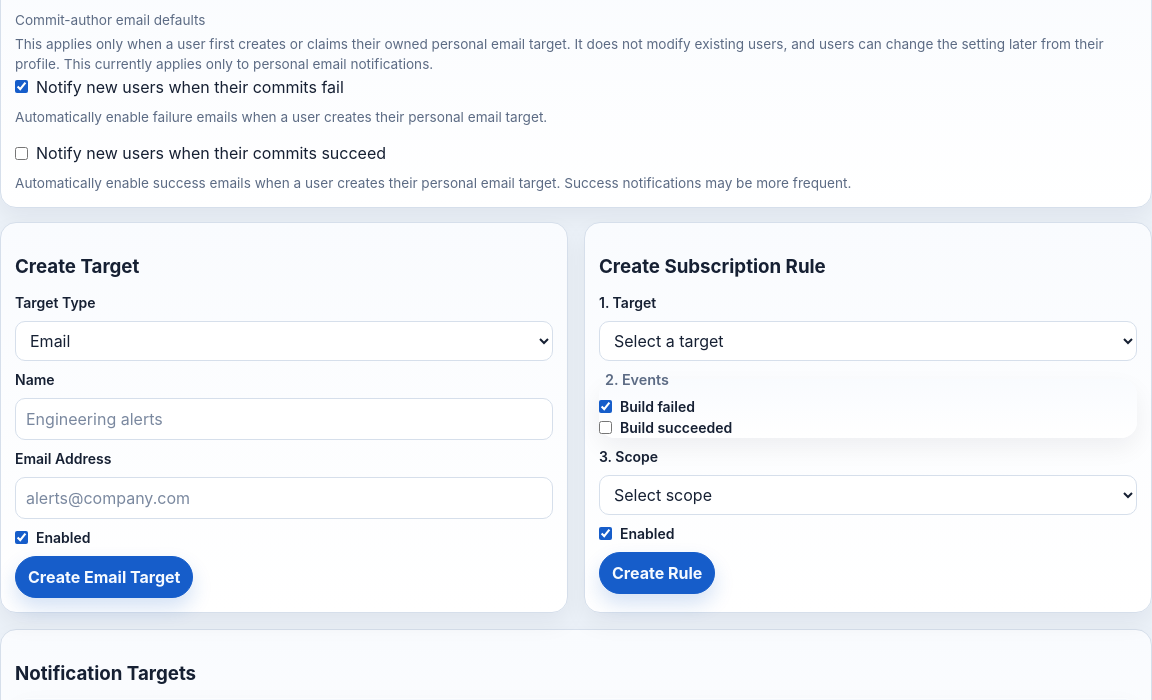
Test: NotificationsPage › shows validation error when project is missing
(page scrolled)
Select "Email · Engineering alerts" in the dropdown labelled "1. Target" at [868, 340], box [599,320,1137,360]
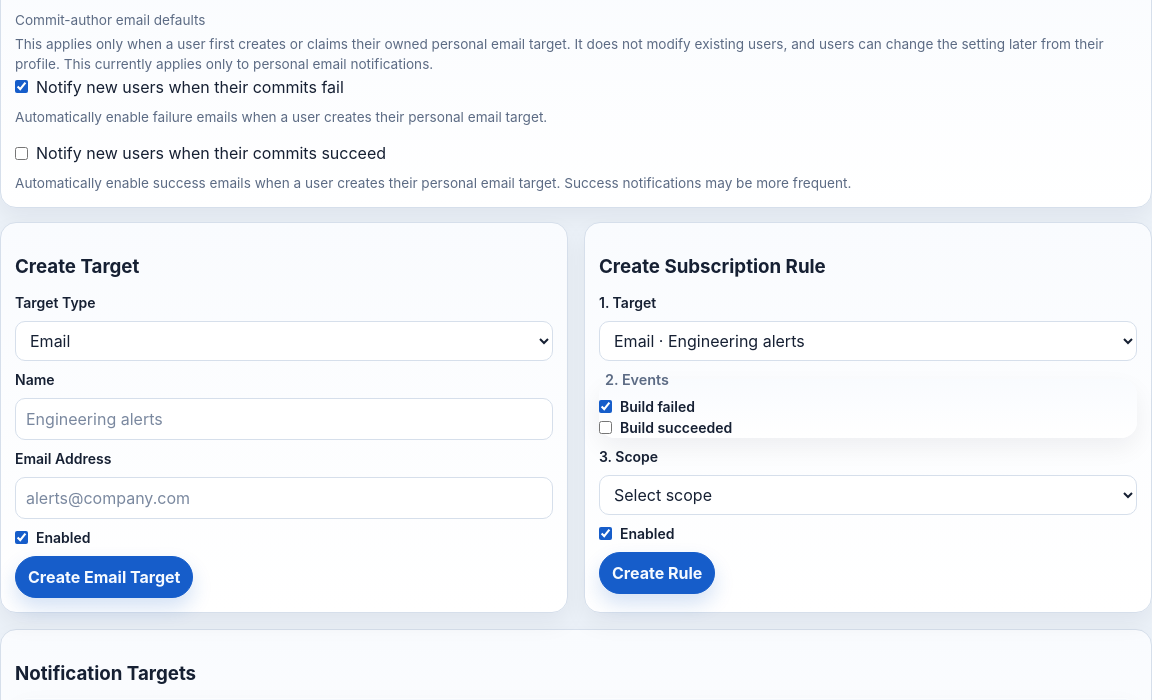
Select "All jobs in a project" in the dropdown labelled "3. Scope" at [868, 495], box [599,475,1137,515]
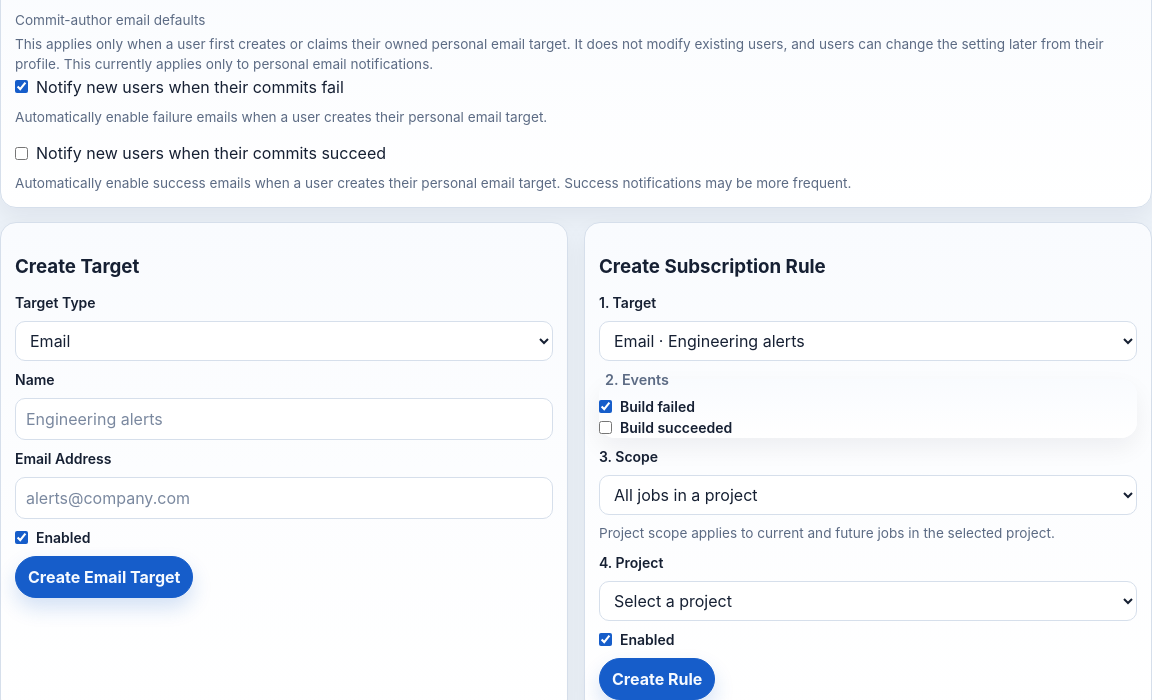
Click the button "Create Rule" at [657, 678], box [599,658,715,699]
(page scrolled)
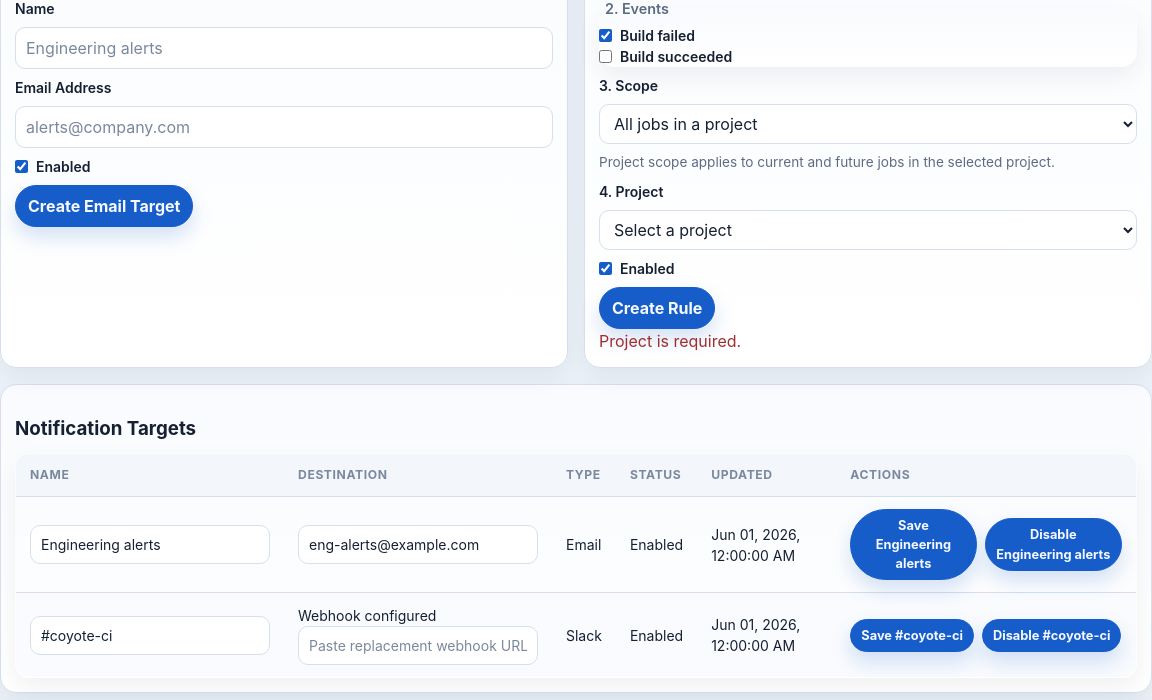
Check: the text "Project is required." is shown, box [599,330,741,350]
